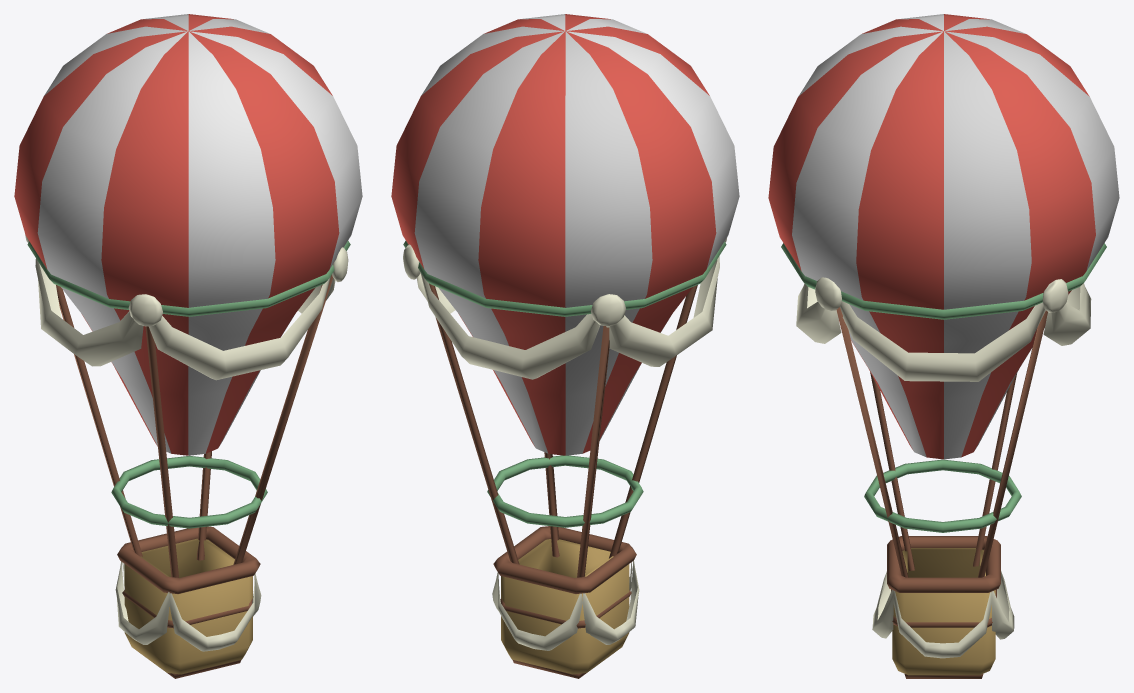
The model's file is hot_air_balloon.fbx.
3 views of the same model, side by side, from view 1: azimuth 30°, elevation 25°; view 2: azimuth 150°, elevation 25°; view 3: azimuth 270°, elevation 25° (orthographic).
Parts seen in each view (by area): view 1: pasted__pTorus16; view 2: pasted__pTorus16; view 3: pasted__pTorus16.
Part boxes in pixels (bbox=[...]): pasted__pTorus16: bbox=[14, 14, 362, 678]; pasted__pTorus16: bbox=[391, 14, 739, 678]; pasted__pTorus16: bbox=[768, 14, 1119, 678].
Bounding box in the file's own units: 5.04 × 10.02 × 5.04.
